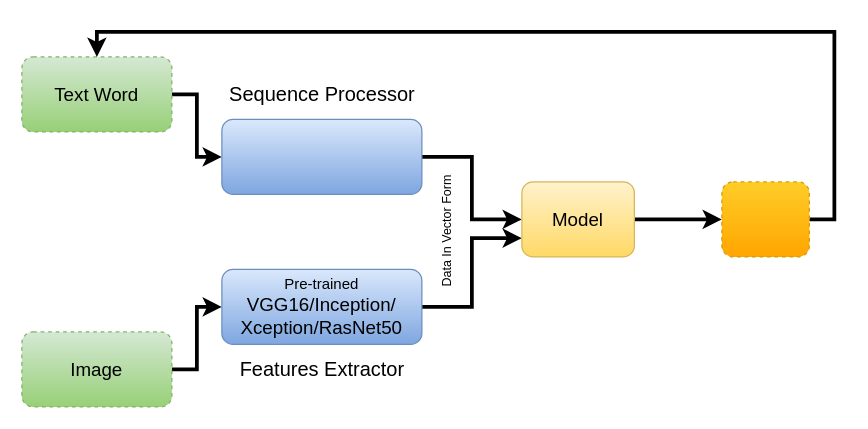
Image size: 868x429. Some labels were removed from this diagram. Each missing label, with the centre of its shape:
"LSTM/GRU" goes at (321,156).
"Word" goes at (765,219).
